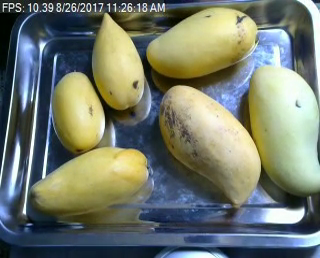Mango: (159, 83, 261, 206), (250, 64, 320, 196), (28, 146, 148, 216), (145, 7, 258, 78), (92, 12, 144, 108), (51, 72, 105, 152)
